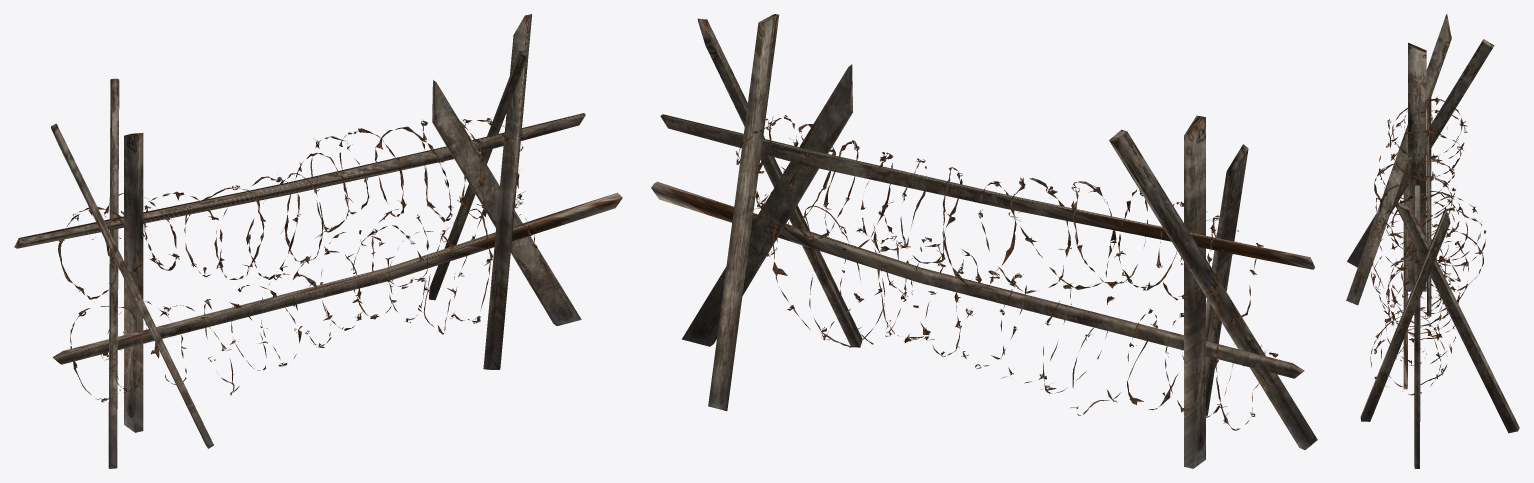
The model's file is tank_big.glb.
3 renders of one model, left to right at view 1: azimuth 30°, elevation 25°; view 2: azimuth 150°, elevation 25°; view 3: azimuth 270°, elevation 25°, orthographic. The views are drawn at different scales.
Visible parts, largest first — view 1: XI_WDS_Tank_Big_Blocker.Shape; view 2: XI_WDS_Tank_Big_Blocker.Shape; view 3: XI_WDS_Tank_Big_Blocker.Shape.
Part boxes in pixels (left/top/right/bottom): XI_WDS_Tank_Big_Blocker.Shape: left=14, top=14, right=622, bottom=468; XI_WDS_Tank_Big_Blocker.Shape: left=651, top=14, right=1317, bottom=468; XI_WDS_Tank_Big_Blocker.Shape: left=1346, top=14, right=1519, bottom=468.
Size of the model in its own units: 2.01 by 1.02 by 0.6195.
Materials: 1 (1 with a texture image).
